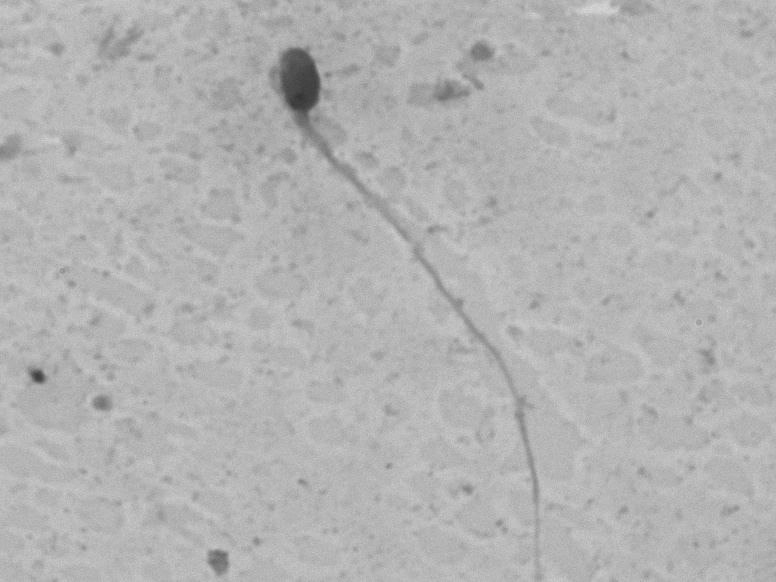Abnormal: (237, 19, 598, 547)
